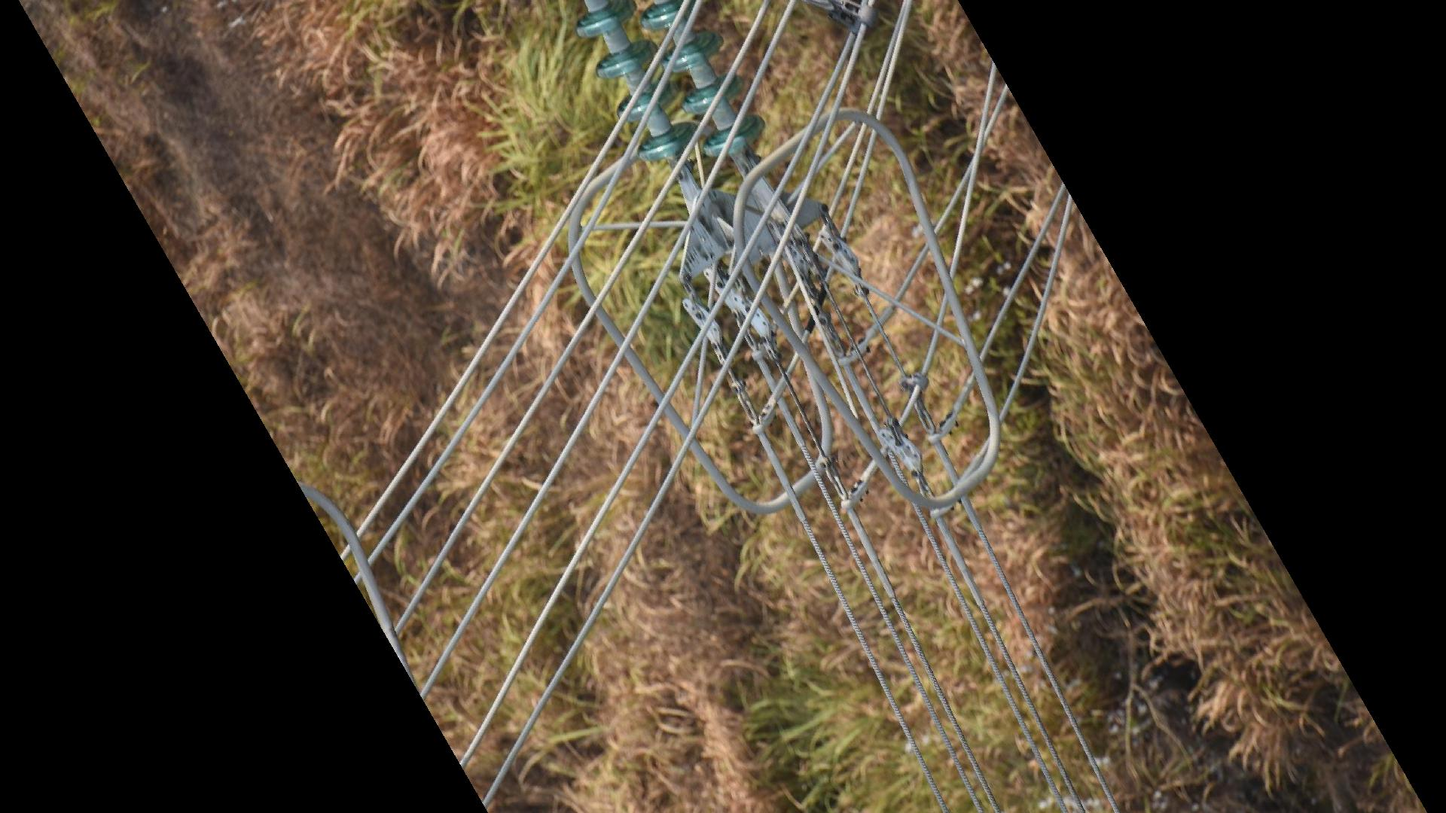insulator: (570, 1, 771, 169)
